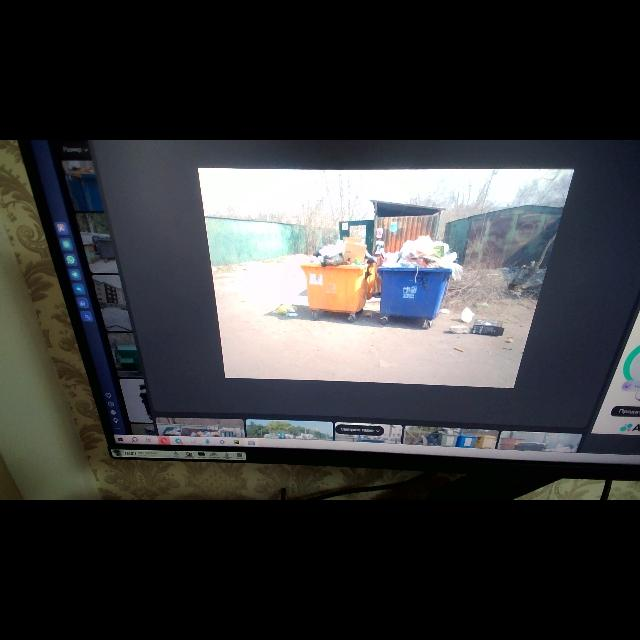Trash_Can_Full: (378, 235, 453, 317), (300, 236, 370, 314)
